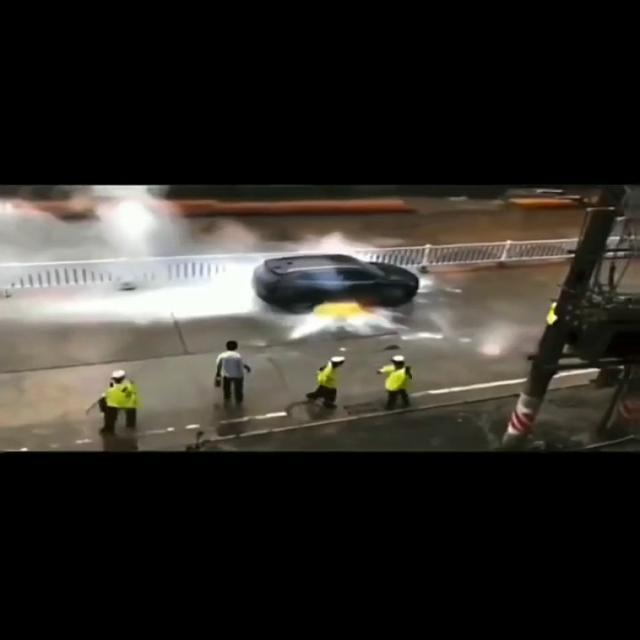Fire: (308, 299, 380, 329)
Smoke: (2, 184, 270, 324)
